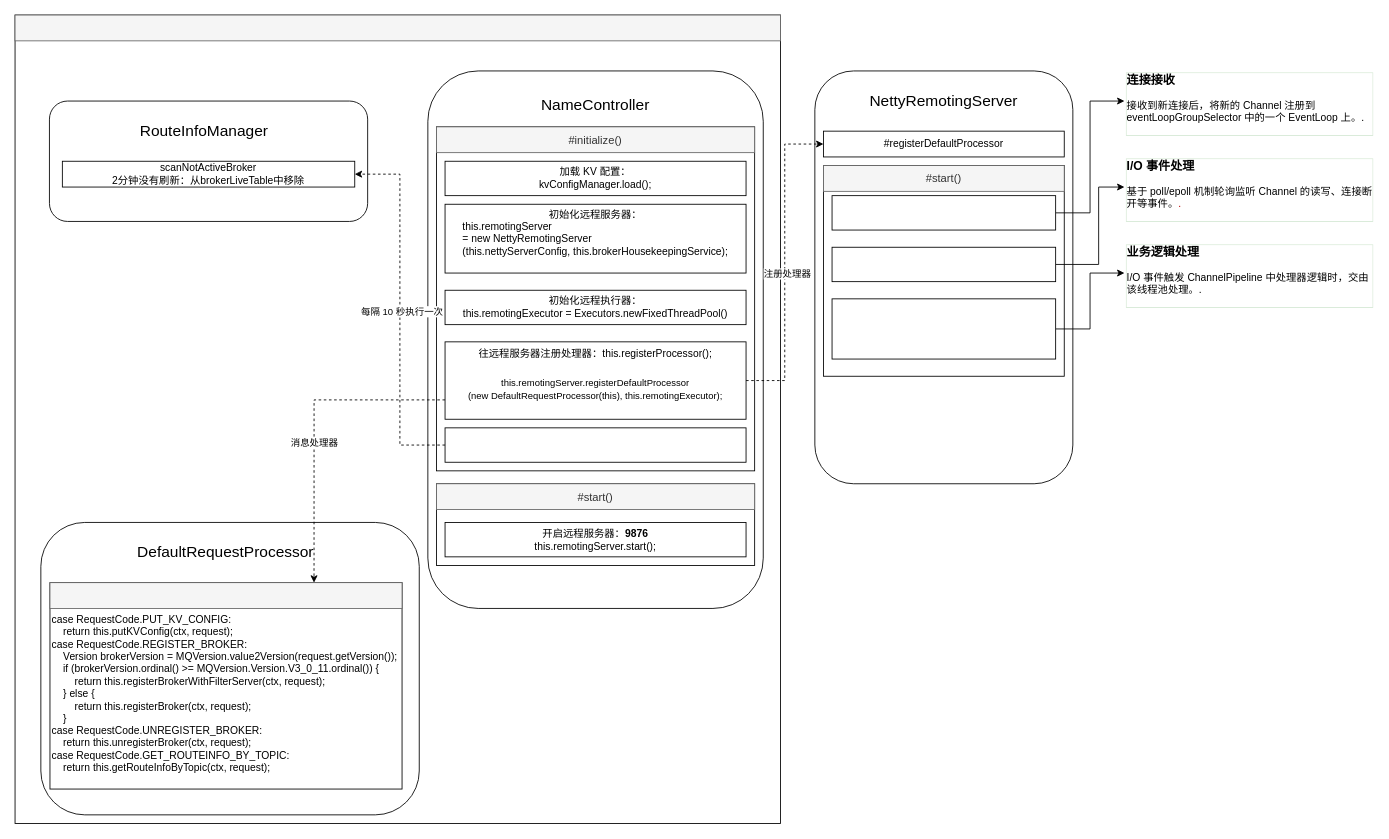
Image size: 1389x839. Some labels were removed from this diagram. Here are the shapes that lost their labels. From the top down, the centre of each, then its label:
At [397,27]: "namesrv模块".
At [943,212]: "eventLoopGroupBoss".
At [943,264]: "eventLoopGroupSelector".
At [943,328]: "defaultEventExecutorGroup 处理器：connectionManageHandler、NettyServerHandler".
At [595,444]: "定时扫描不活跃的 Broker： this.routeInfoManager::scanNotActiveBroker".
At [225,595]: "#processRequest".
